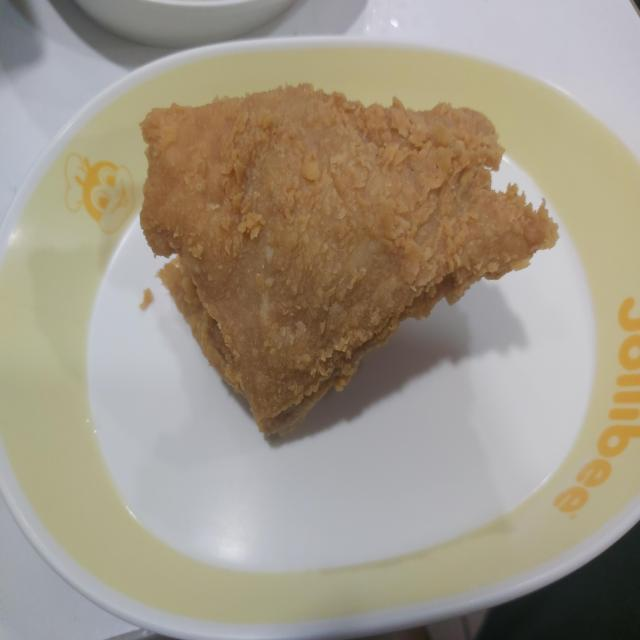Chicken -Fried Chicken-: (124, 48, 565, 442)
